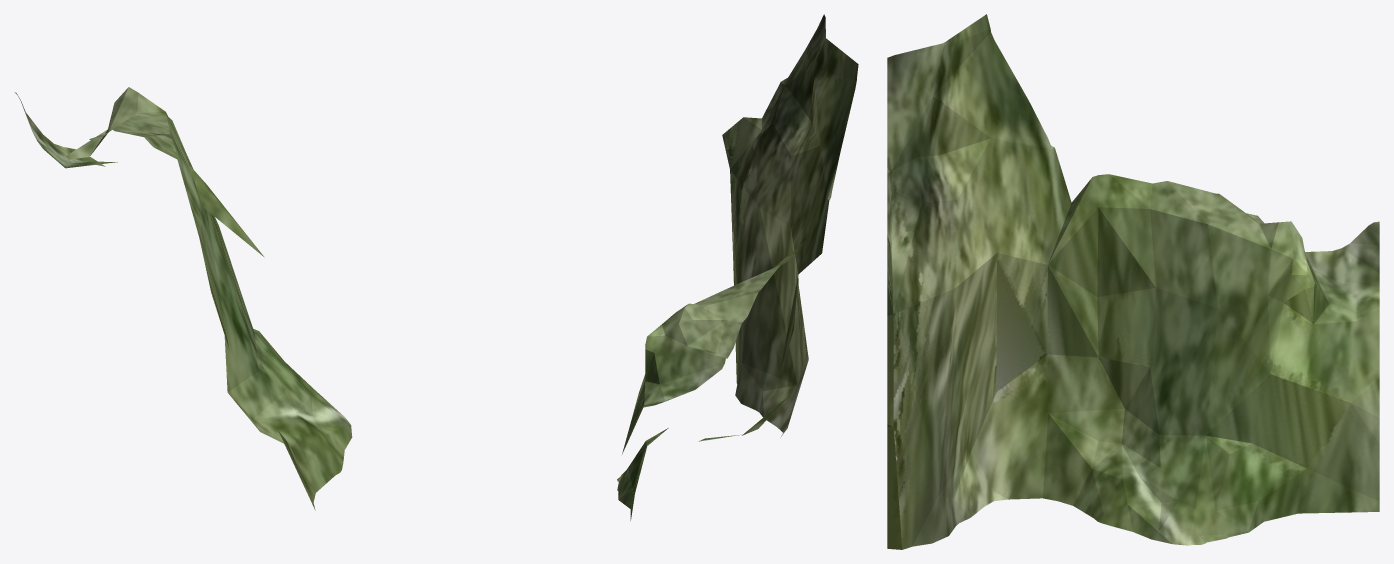
The picture shows the model from 3 angles, left to right: view 1: azimuth 30°, elevation 25°; view 2: azimuth 150°, elevation 25°; view 3: azimuth 270°, elevation 25°; orthographic projection. The views are drawn at different scales.
Size of the model in its own units: 1.44 by 2.95 by 2.95.
Materials: 2 (2 with a texture image).
